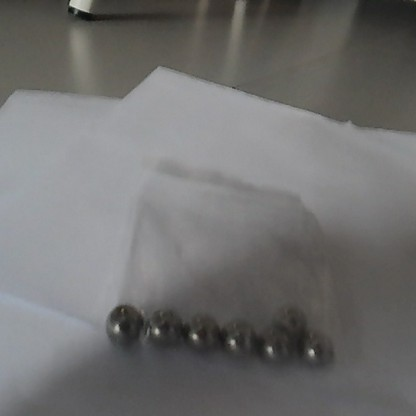ironball: (98, 296, 150, 346), (294, 330, 334, 370), (220, 317, 259, 357), (144, 305, 184, 343), (255, 327, 293, 366), (273, 299, 312, 336), (184, 312, 220, 350)
